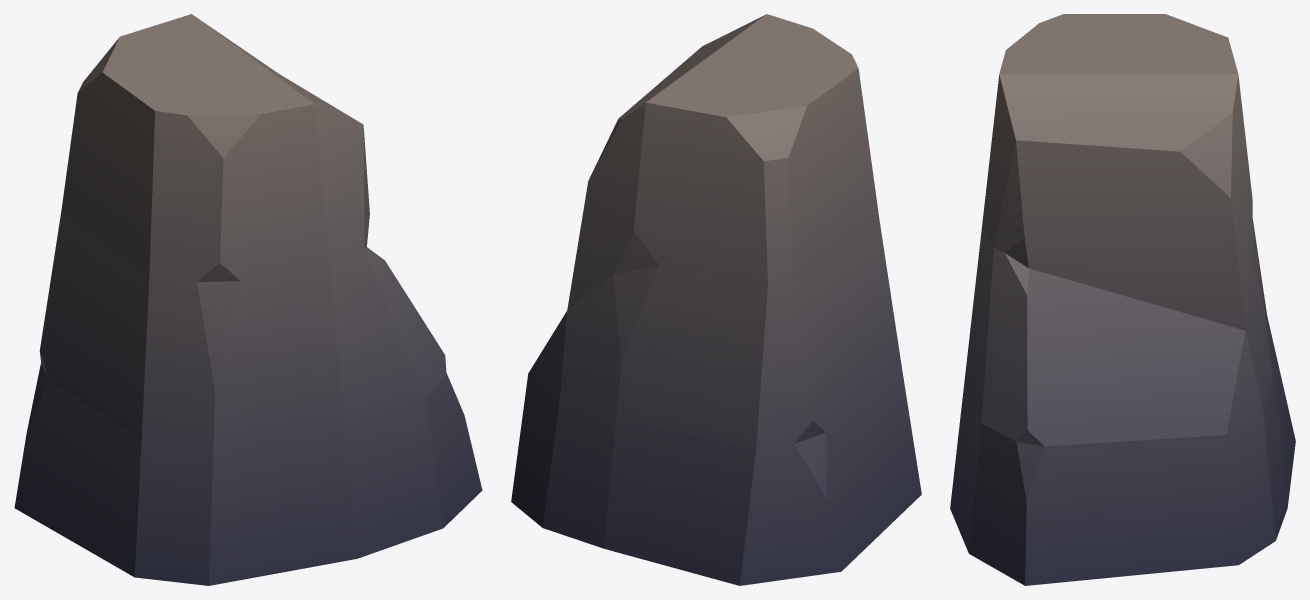
Rendered from Rock_03.fbx.
The picture shows the model from 3 angles, left to right: view 1: azimuth 30°, elevation 25°; view 2: azimuth 150°, elevation 25°; view 3: azimuth 270°, elevation 25°; orthographic projection. The views are drawn at different scales.
Visible parts, largest first — view 1: Rock_03; view 2: Rock_03; view 3: Rock_03.
Part boxes in pixels (x1,y1,x2,y2): Rock_03: [14, 14, 482, 585]; Rock_03: [511, 14, 921, 585]; Rock_03: [950, 14, 1295, 585].
Bounding box in the file's own units: 191 × 217 × 160.
